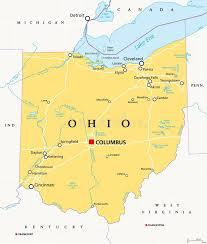ohio: (22, 40, 192, 225)
